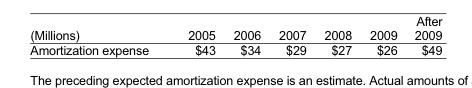table: (29, 29, 441, 57)
table column: (29, 29, 167, 57), (167, 29, 223, 57), (223, 29, 269, 57), (314, 29, 360, 57), (269, 29, 314, 57), (360, 29, 405, 57), (405, 29, 441, 57)
table column header: (29, 29, 441, 43)
table row: (29, 29, 441, 43), (29, 43, 441, 57)
